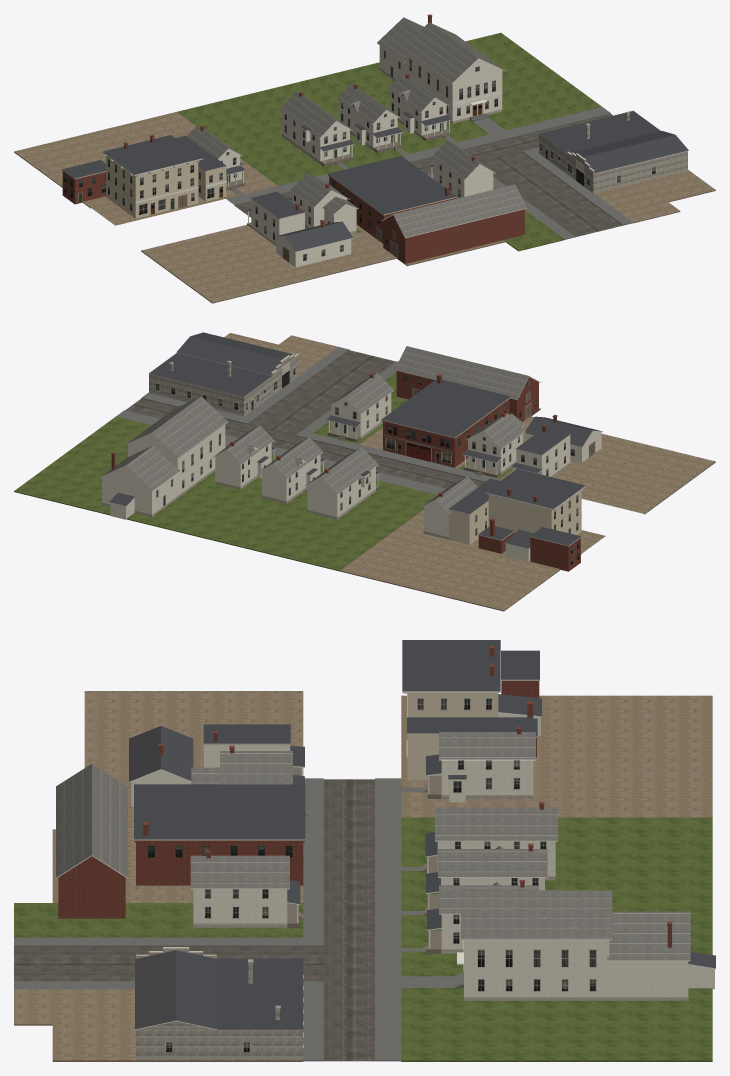
File: sidestreet-bloomfield.glb
3 renders of one model, top to bottom at view 1: azimuth 30°, elevation 25°; view 2: azimuth 150°, elevation 25°; view 3: azimuth 270°, elevation 25°, orthographic. The views are drawn at different scales.
Parts seen in each view (by area): view 1: SidestreetBloomfield; view 2: SidestreetBloomfield; view 3: SidestreetBloomfield.
Boxes of the visible parts, x1=… form: SidestreetBloomfield: x1=14, y1=14, x2=715, y2=303; SidestreetBloomfield: x1=14, y1=332, x2=715, y2=611; SidestreetBloomfield: x1=14, y1=640, x2=715, y2=1061.
Size of the model in its own units: 113 by 13.25 by 90.45.
Materials: 9 (9 with a texture image).
